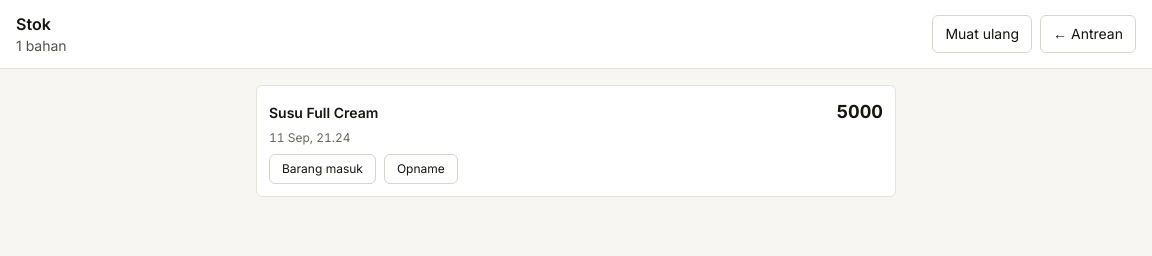
mengubah stok › barang masuk: mengirim qty lalu memuat saldo baru dari server
Click the button "Barang masuk" at (322, 169), box [269,154,376,184]
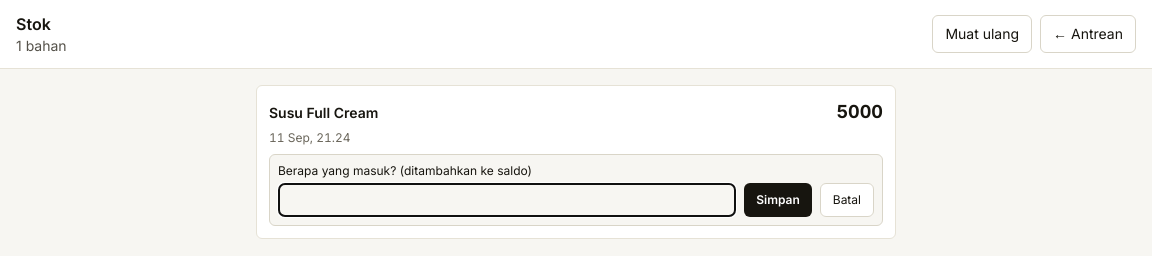
Type "2000" into the field labelled "Berapa yang masuk? (ditambahkan ke saldo)" at (507, 200), box [278,183,736,217]
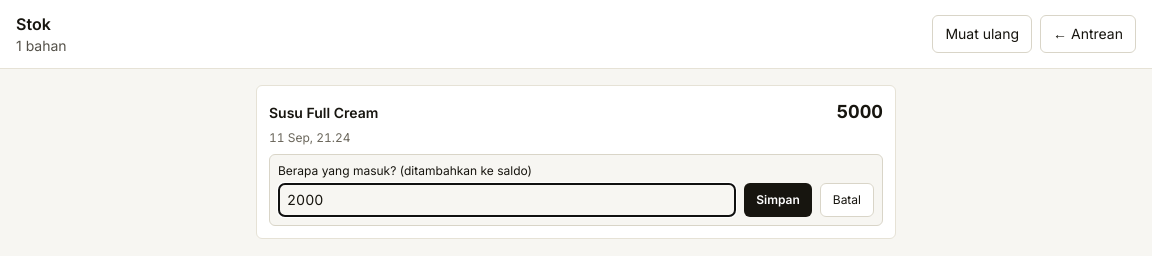
Click the button "Simpan" at (778, 200), box [744,183,812,217]
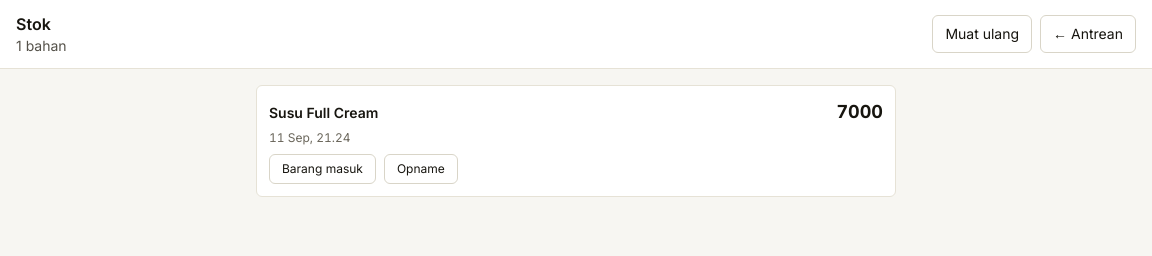
expect the text "7000" is shown: met, box [836,98,883,126]
